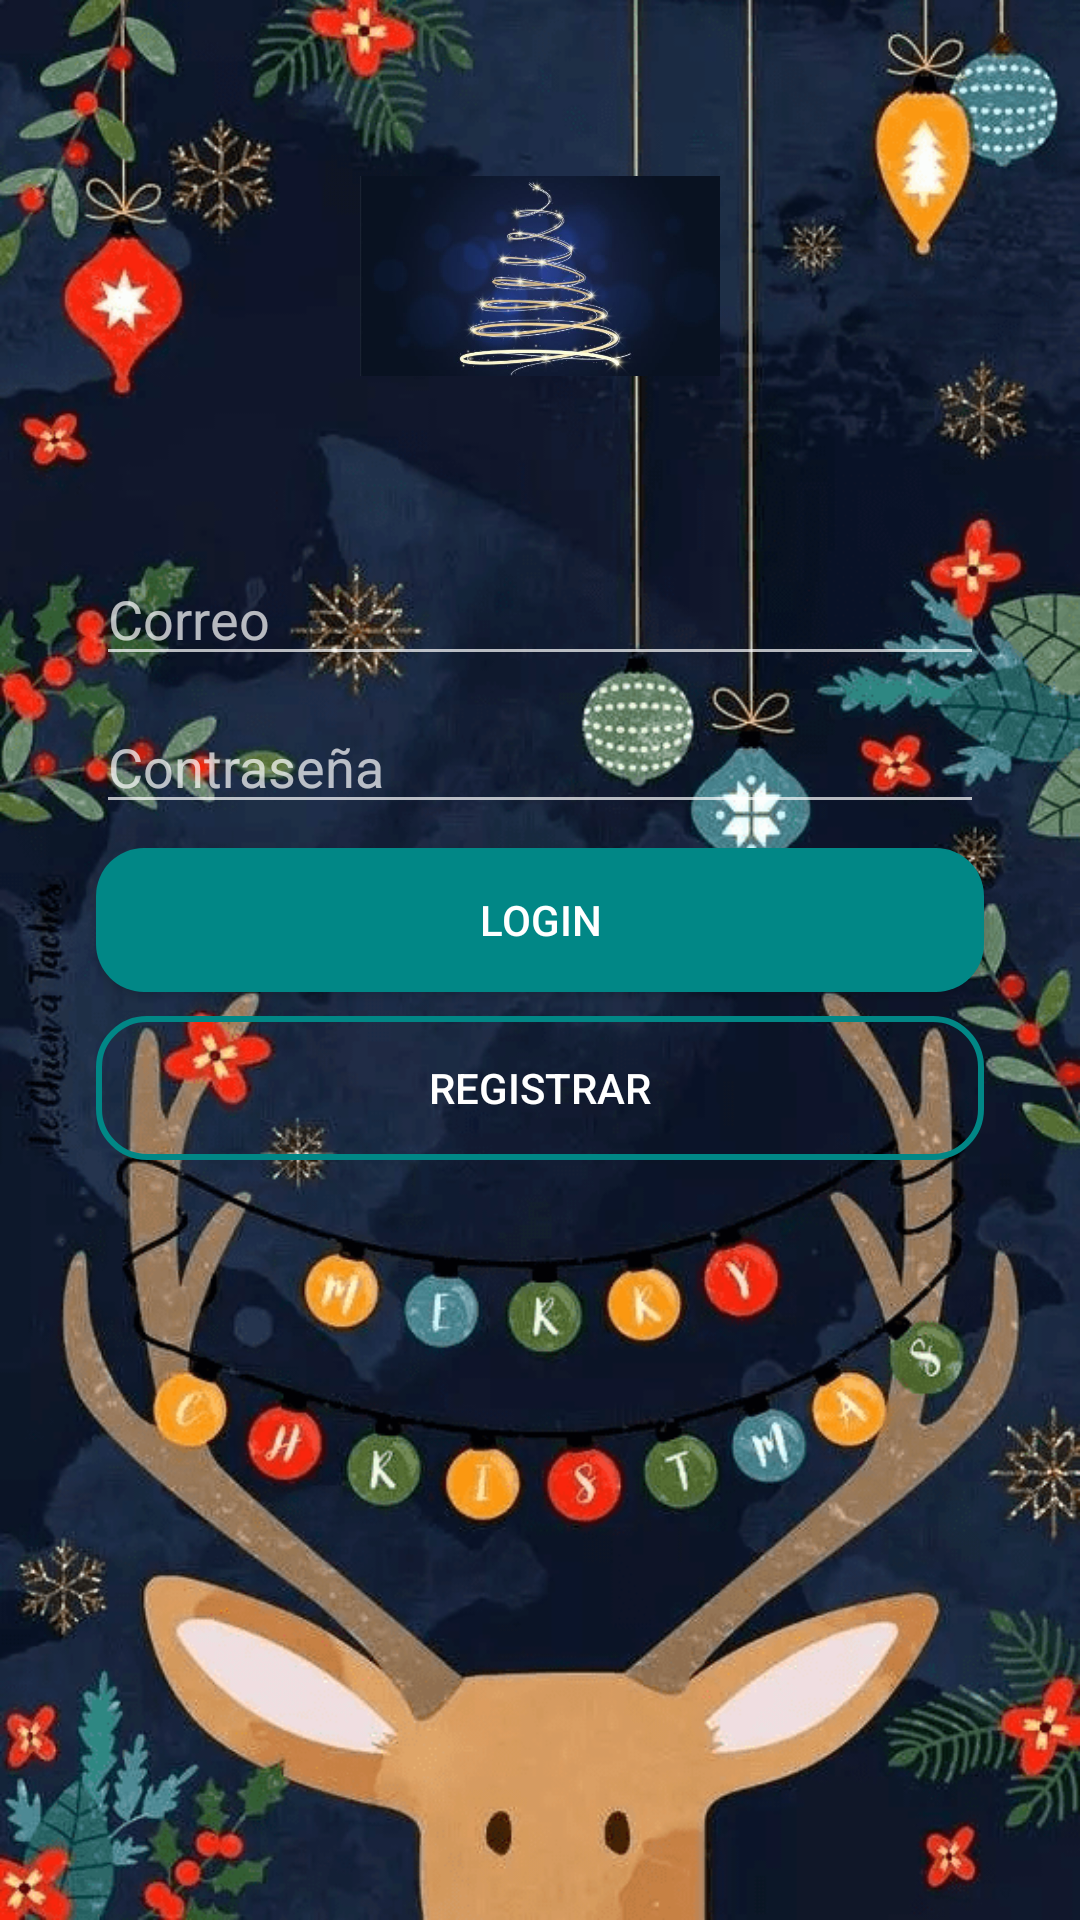

Icons on this 1080 × 1920 Android screen, each with the point to tap as [x,y]:
navidad: [540,276]
